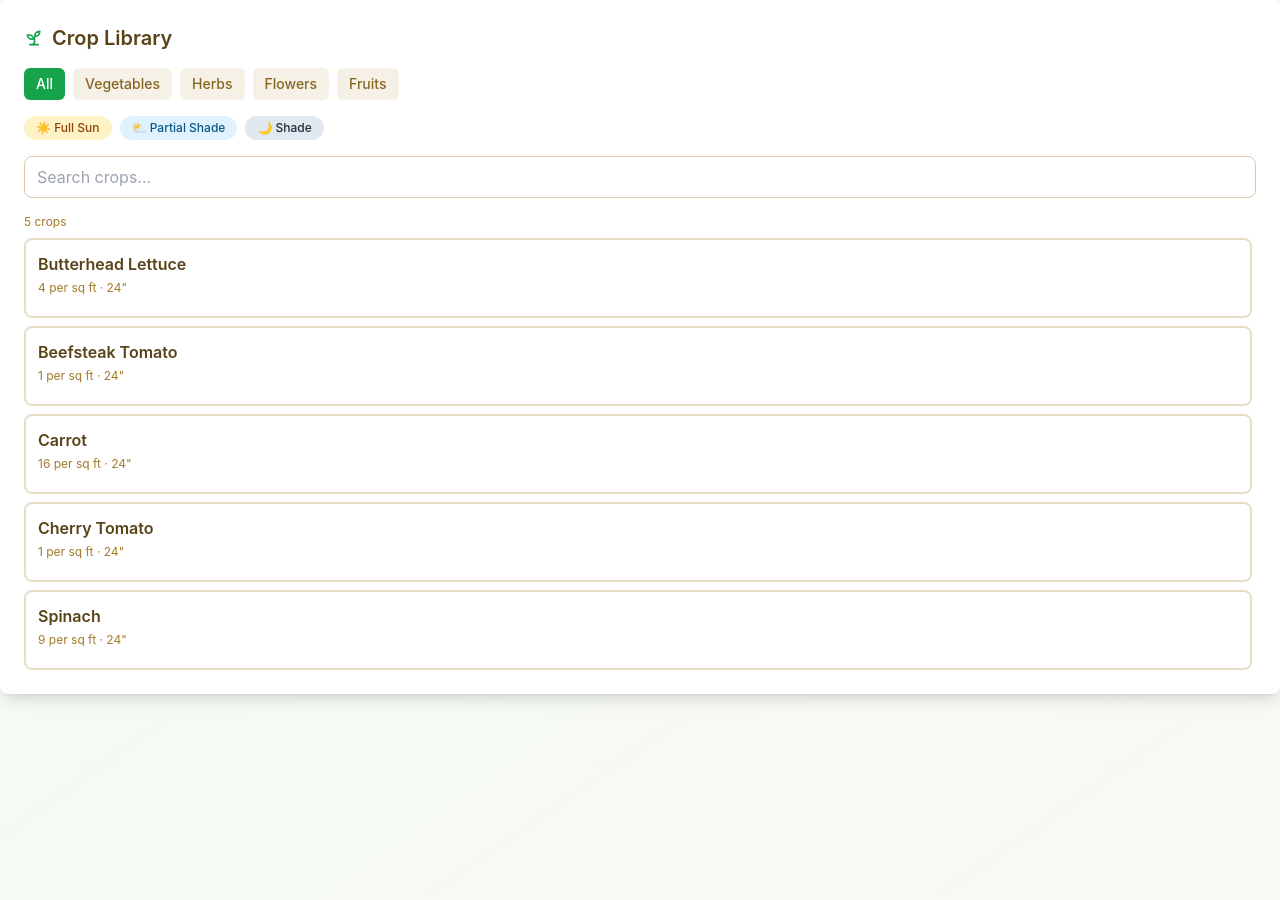
Test: CropLibrary › Search and Filter › is case insensitive when searching
The image size is (1280, 900).
Type "BUTTERHEAD" into the field with placeholder "Search crops..." at {"x": 640, "y": 177}, box 24,156 -> 1256,198
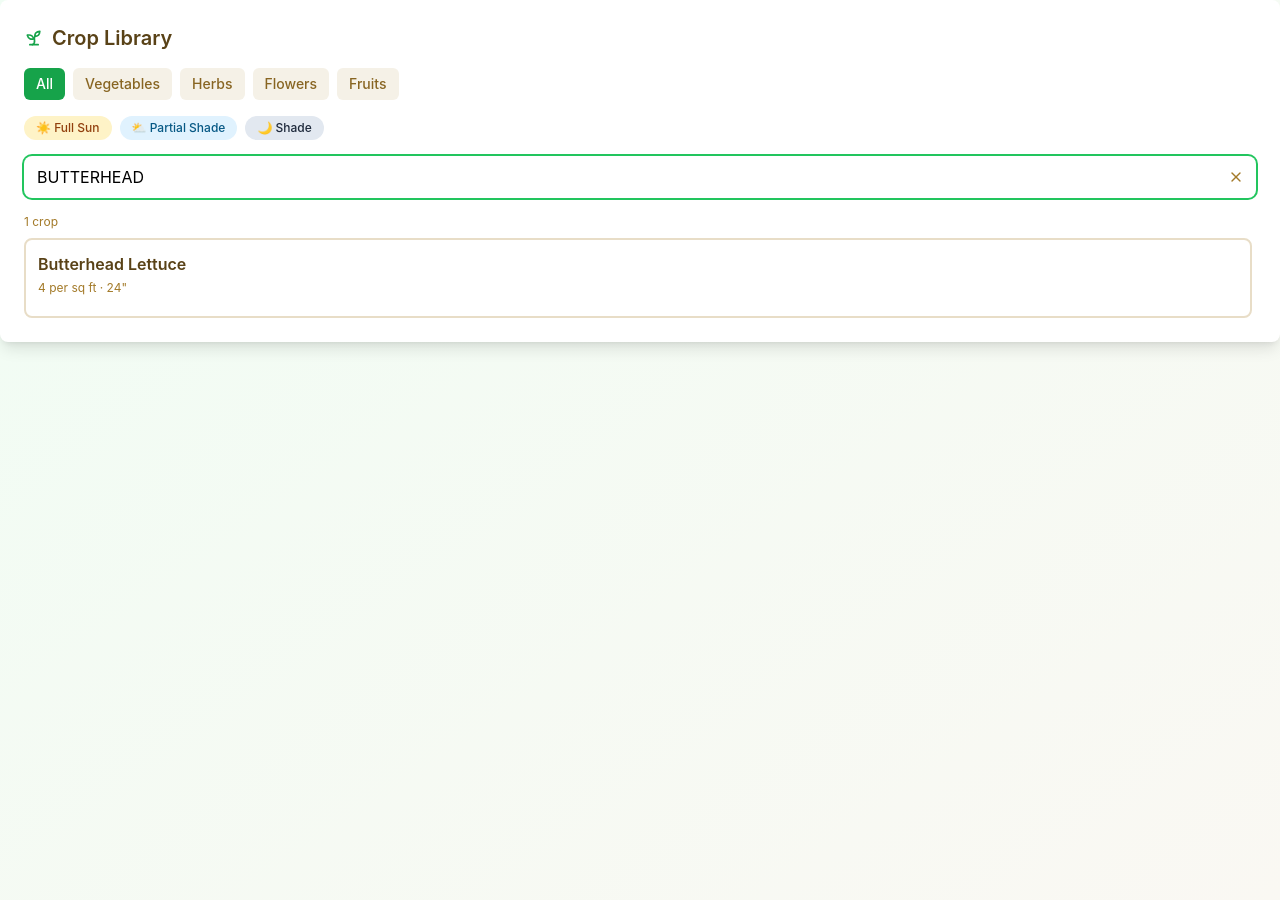
Expected: the text "Butterhead Lettuce" is shown, 38,254 -> 186,274
Expected: the button "Beefsteak Tomato" is gone
